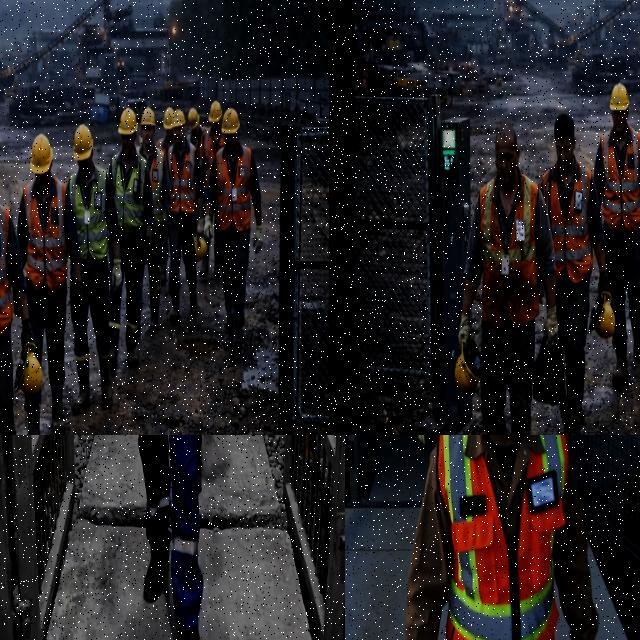Vest: (438, 435, 568, 639), (479, 174, 539, 327), (542, 160, 592, 284), (23, 178, 67, 291), (601, 125, 639, 231), (68, 166, 108, 260), (216, 147, 251, 233), (111, 153, 146, 235), (168, 142, 196, 215), (0, 206, 13, 336), (148, 148, 166, 228), (201, 128, 215, 188)
Worker: (405, 435, 598, 639), (459, 126, 557, 434), (541, 113, 610, 434), (17, 133, 82, 434), (68, 124, 121, 413), (204, 108, 262, 360), (594, 83, 639, 385), (139, 435, 202, 639), (109, 108, 153, 372), (0, 204, 34, 434), (167, 109, 203, 323), (140, 108, 170, 331), (199, 100, 224, 188), (157, 107, 174, 156), (157, 107, 174, 154), (188, 108, 204, 153), (417, 435, 425, 444)
helmet: (15, 343, 42, 395), (454, 340, 481, 392), (589, 292, 615, 338), (31, 134, 52, 174), (74, 124, 94, 162), (610, 82, 628, 111), (118, 108, 137, 135), (222, 108, 239, 134), (193, 234, 207, 263), (209, 100, 222, 123), (140, 108, 156, 126), (163, 108, 175, 132), (172, 109, 186, 128), (188, 108, 199, 130)
